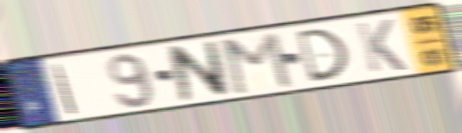9: (105, 51, 157, 109)
D: (293, 26, 351, 85)
I: (50, 61, 80, 116)
K: (353, 17, 410, 75)
M: (221, 30, 295, 97)
N: (164, 38, 231, 104)
